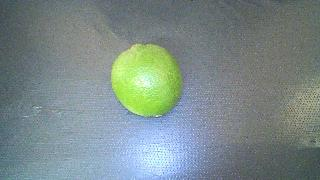EXPORTACION: (111, 44, 183, 117)
